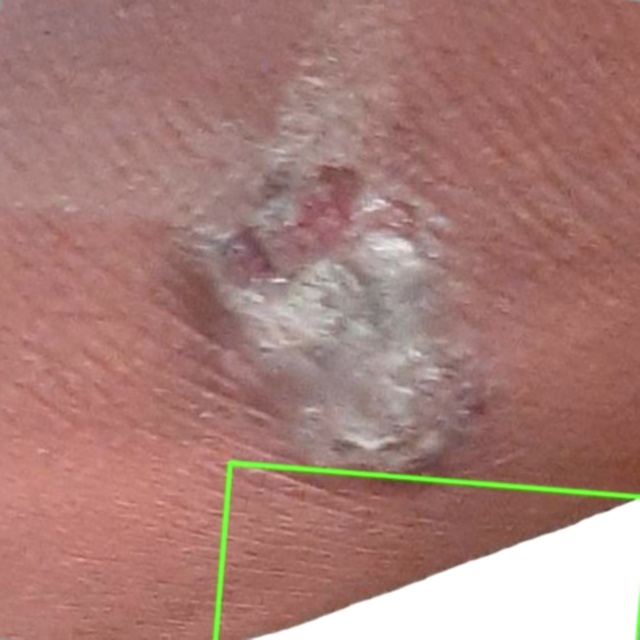Contact Dermatitis: (215, 462, 639, 639)
